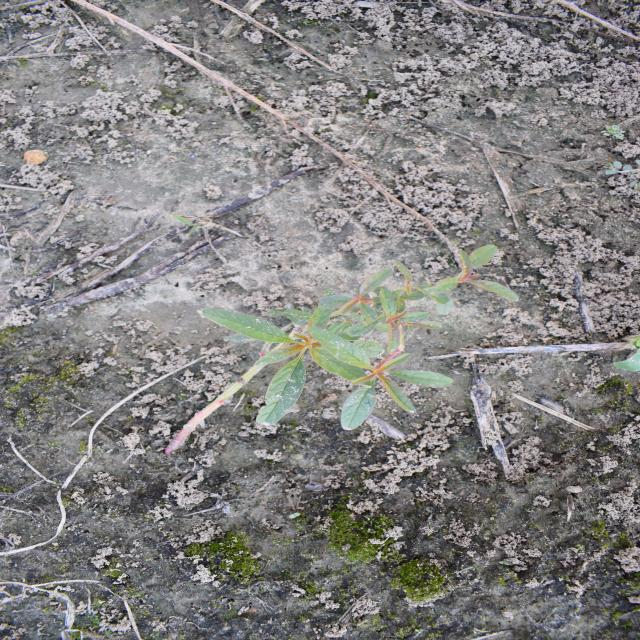Waterhemp: (198, 243, 522, 431)
